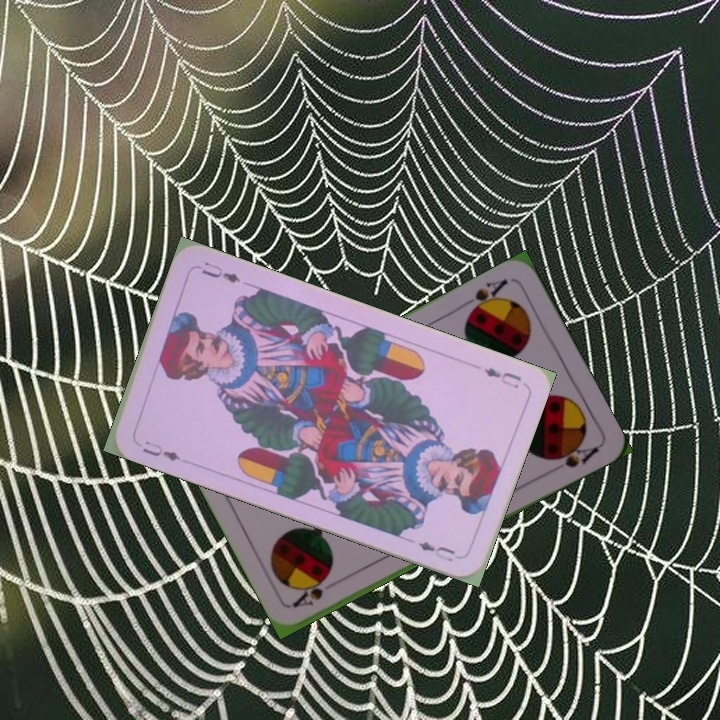EU: (480, 363, 524, 392), (139, 436, 183, 464)
SA: (458, 274, 511, 318), (289, 575, 330, 610)
